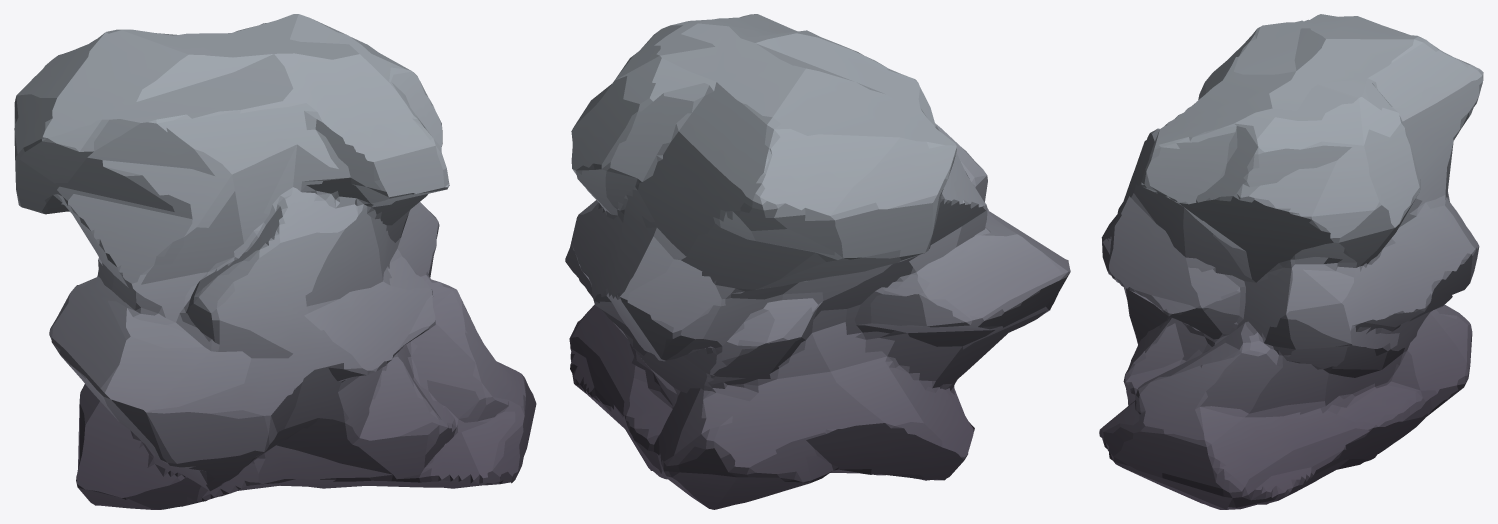
The model's file is rock_4_05.fbx.
3 renders of one model, left to right at view 1: azimuth 30°, elevation 25°; view 2: azimuth 150°, elevation 25°; view 3: azimuth 270°, elevation 25°, orthographic. The views are drawn at different scales.
Parts seen in each view (by area): view 1: rock_4_05; view 2: rock_4_05; view 3: rock_4_05.
Part boxes in pixels (x1,y1,x2,y2): rock_4_05: (14, 14, 536, 509); rock_4_05: (565, 14, 1070, 509); rock_4_05: (1099, 14, 1483, 509).
Size of the model in its own units: 474 by 427 by 390.
